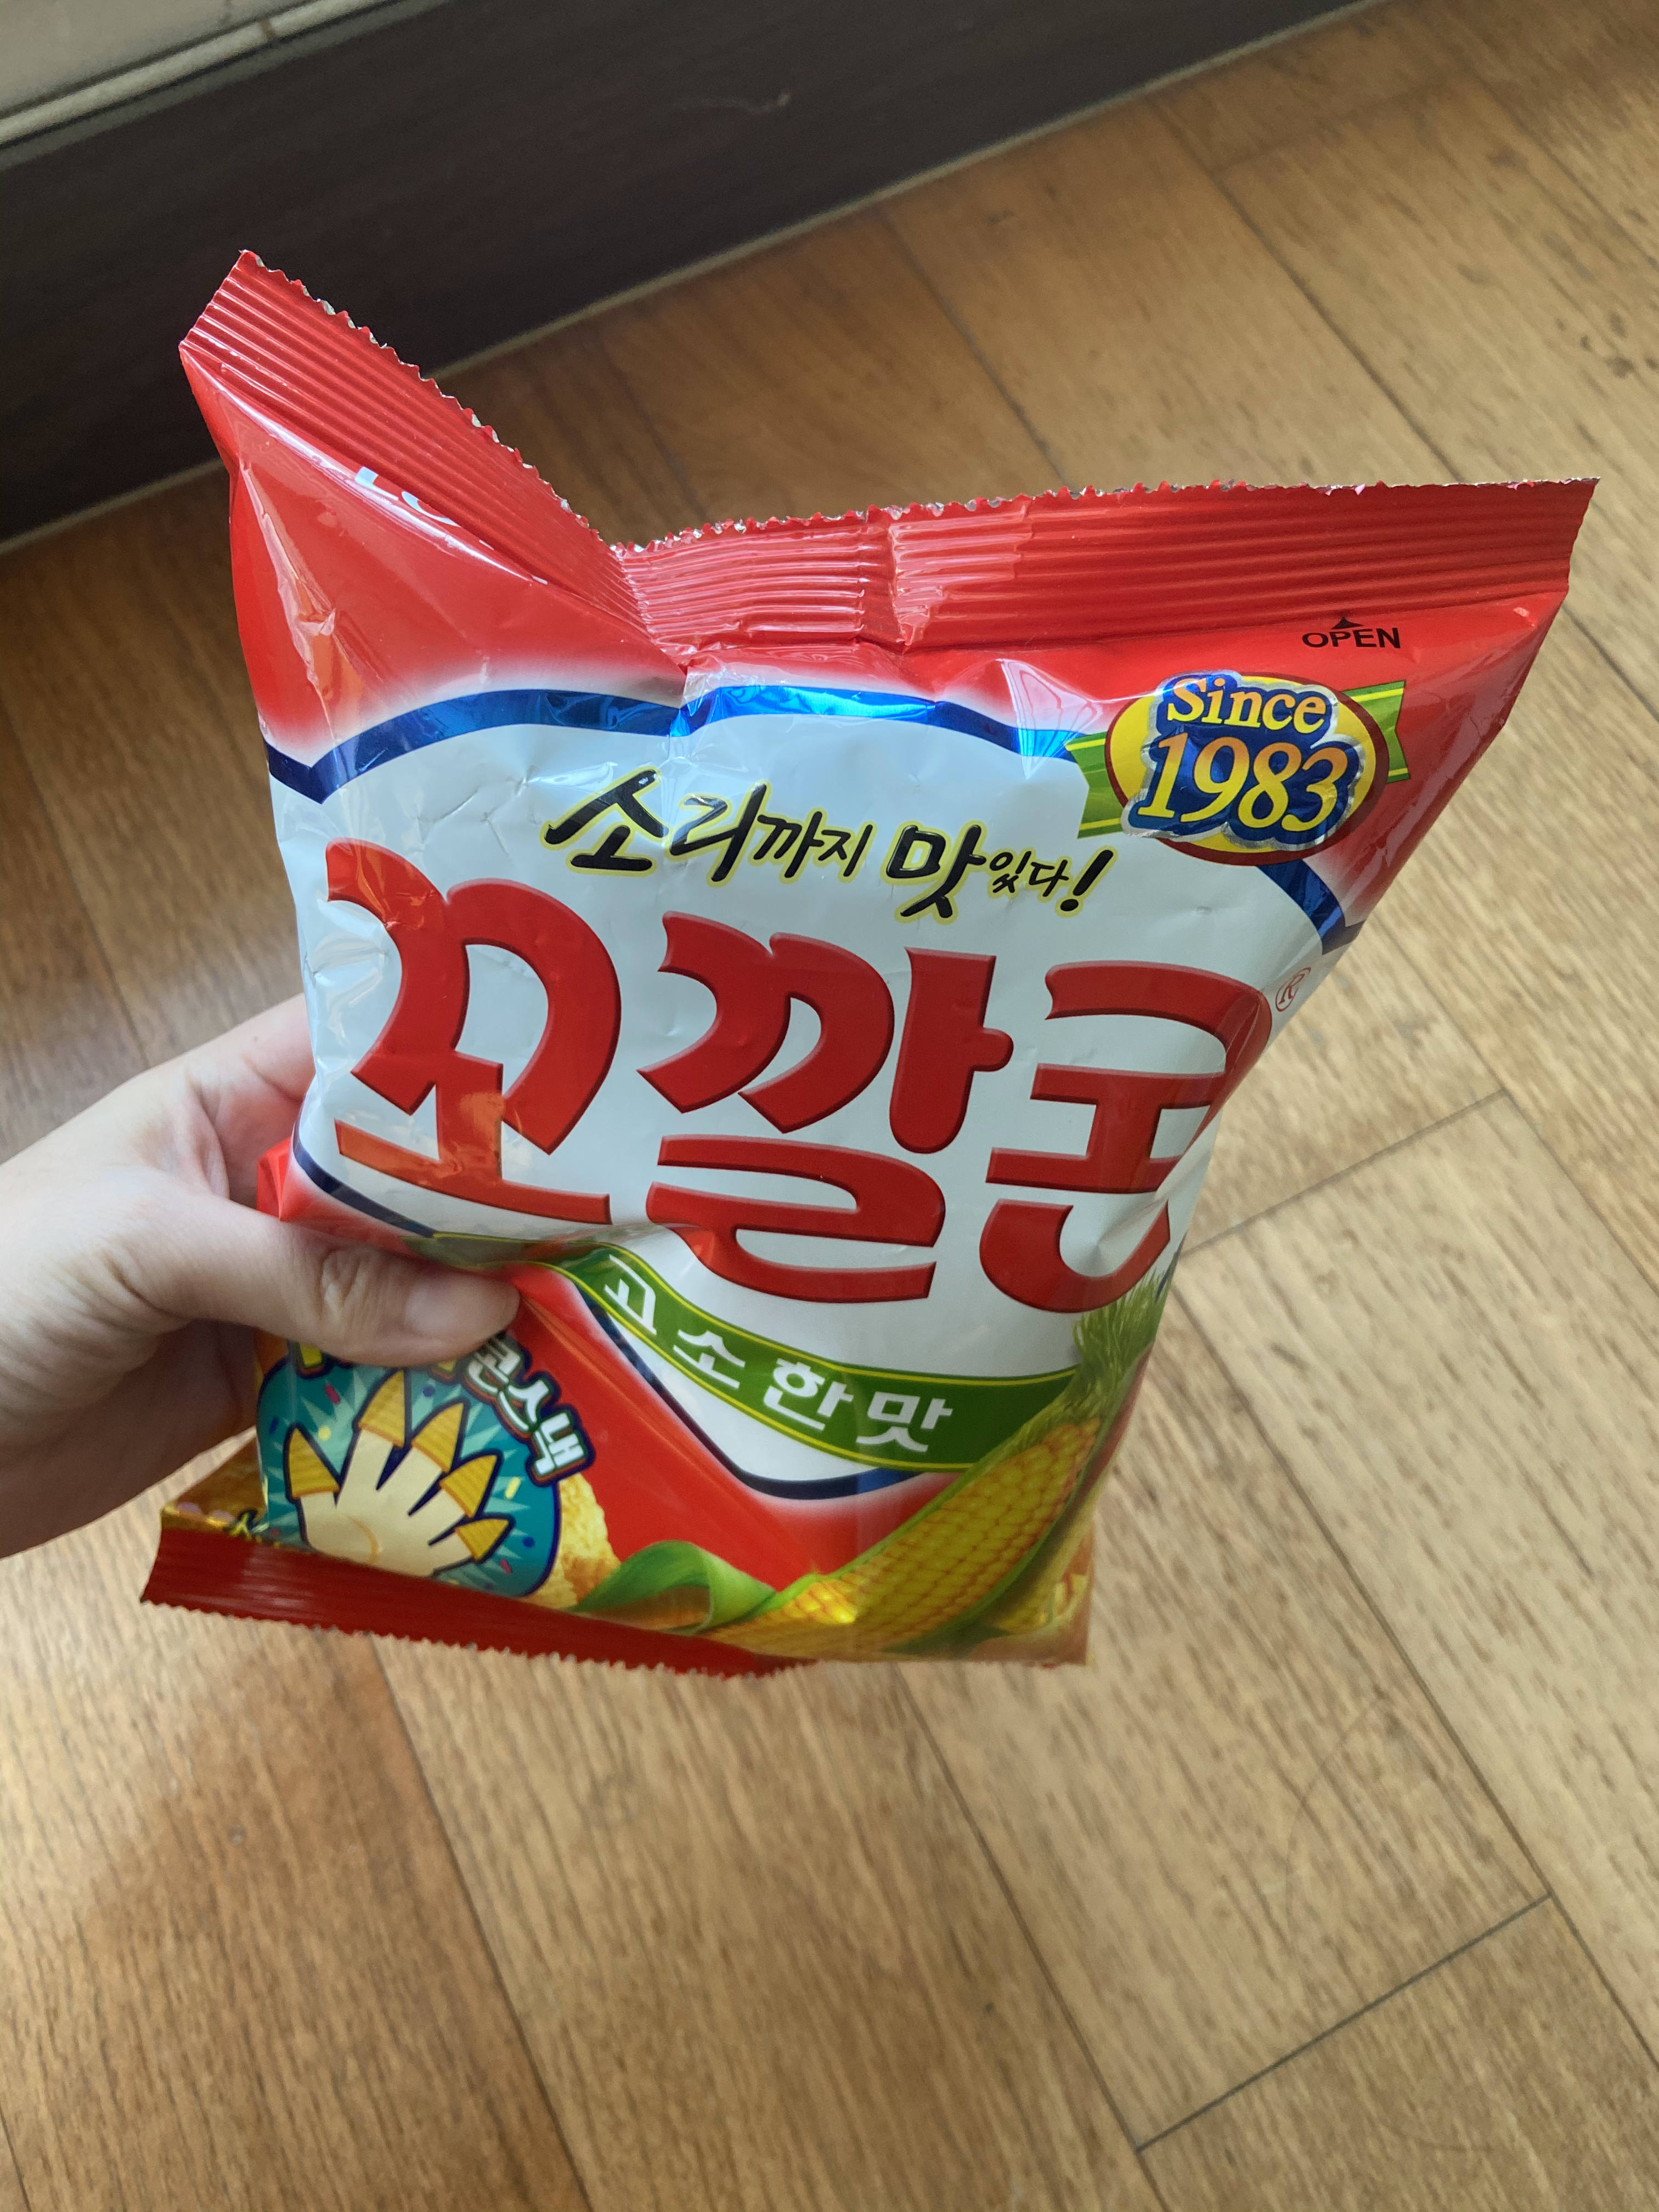ggoggalcon: (122, 233, 1612, 1696)
